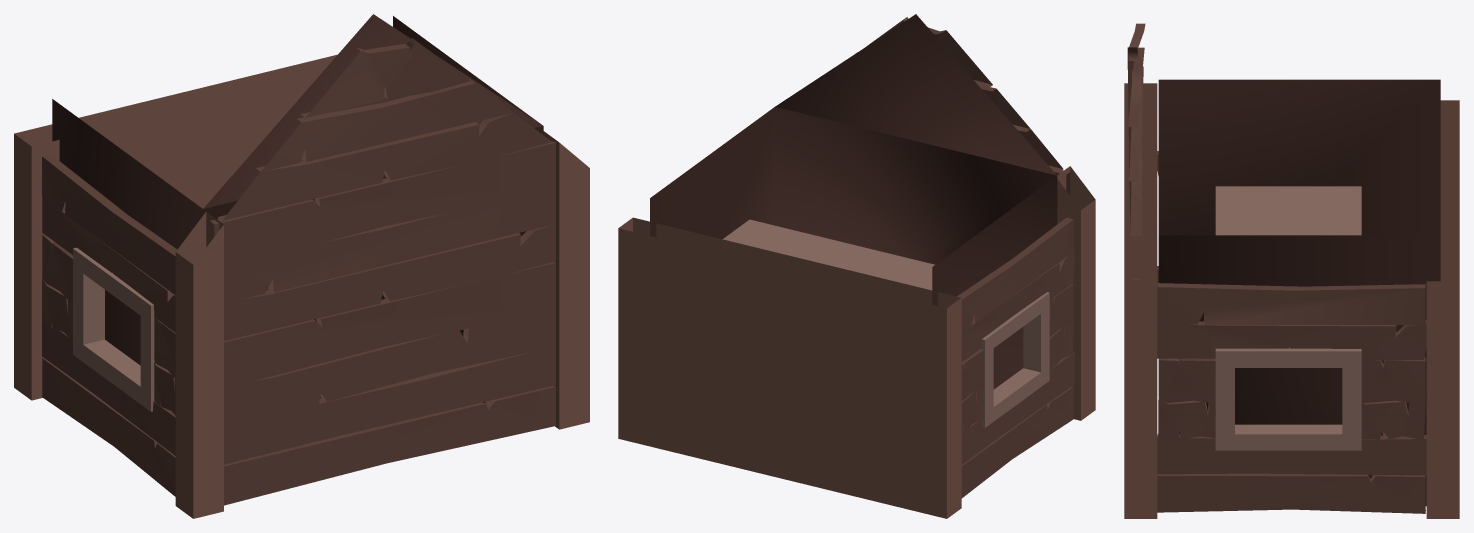
File: Building_Wall_005.glb
3 renders of one model, left to right at view 1: azimuth 30°, elevation 25°; view 2: azimuth 150°, elevation 25°; view 3: azimuth 270°, elevation 25°, orthographic. The views are drawn at different scales.
Visible parts, largest first — view 1: Building_Wall_005; view 2: Building_Wall_005; view 3: Building_Wall_005.
Boxes of the visible parts, bbox=[...] form: Building_Wall_005: bbox=[14, 14, 589, 518]; Building_Wall_005: bbox=[618, 14, 1095, 518]; Building_Wall_005: bbox=[1124, 23, 1459, 518].
Bounding box in the file's own units: 7.12 × 7.61 × 5.58.
Materials: 1 (1 with a texture image).
